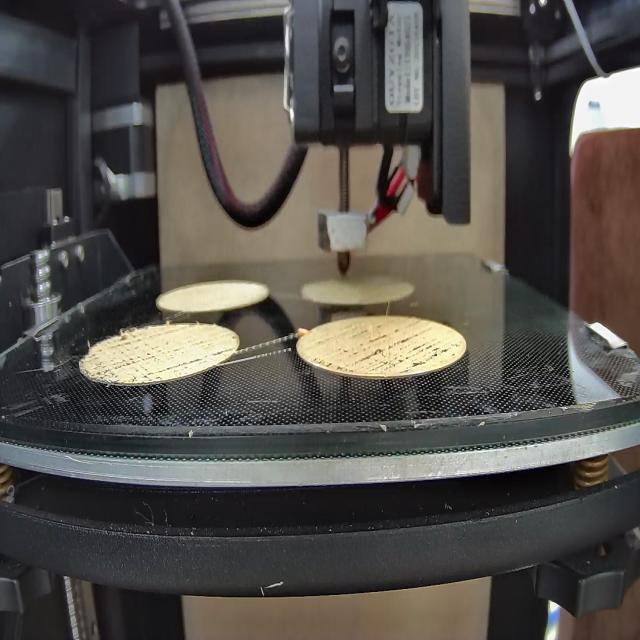under_extrusion: (309, 325, 458, 372), (91, 329, 207, 382), (212, 341, 236, 360)
